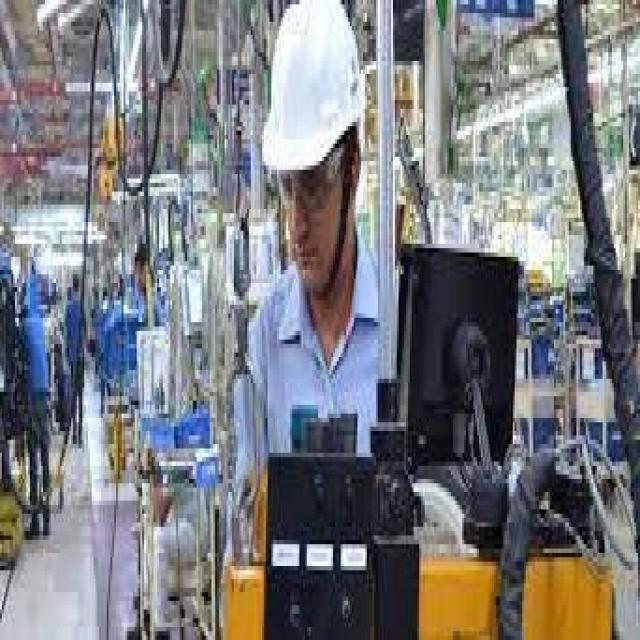safety_helmet: (258, 0, 372, 183)
